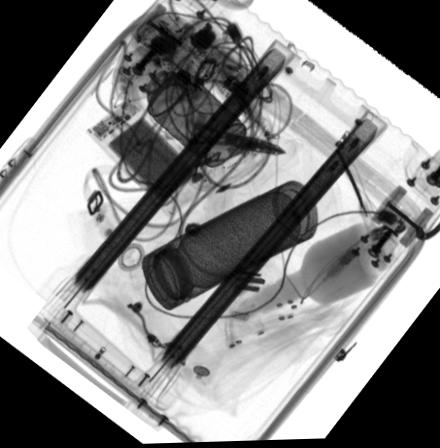Knife: (334, 150, 377, 247)
Powerbank: (83, 95, 211, 218), (166, 106, 293, 157)
Sprayer: (129, 54, 246, 169)
